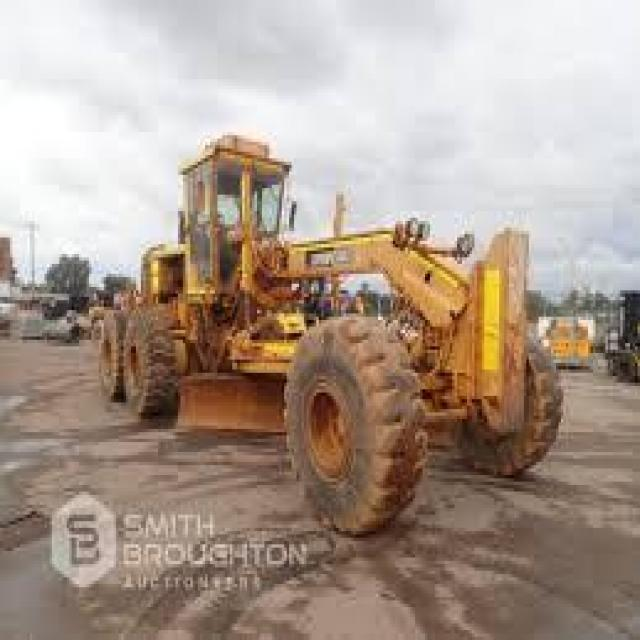Grader: (81, 122, 566, 518)
